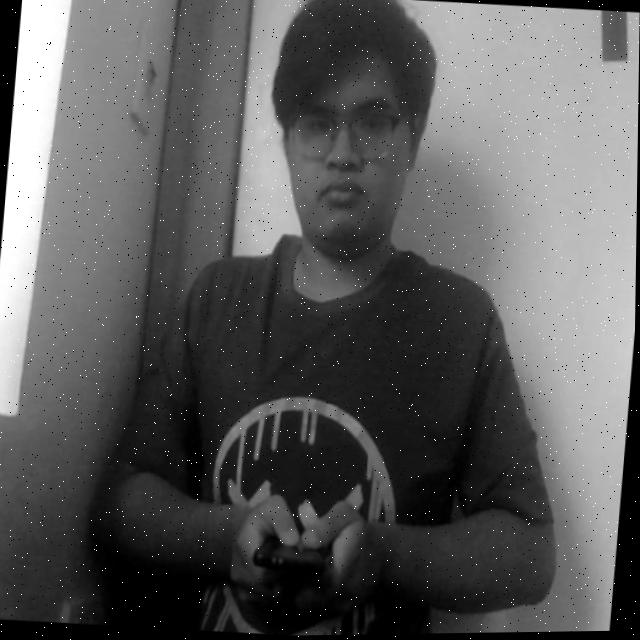phone: (244, 491, 357, 603)
